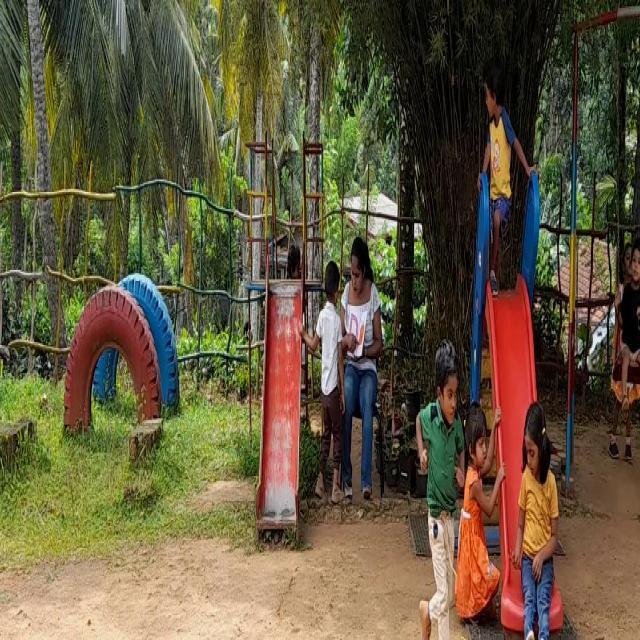adult: (340, 212, 388, 480)
child: (416, 329, 464, 640), (518, 404, 558, 640), (463, 387, 500, 618), (316, 251, 344, 498), (484, 78, 519, 264), (619, 231, 640, 414)
